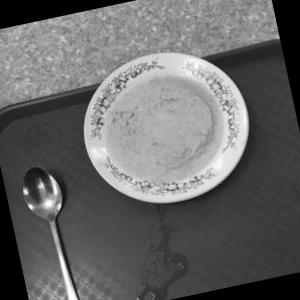porridge: (62, 26, 267, 208)
